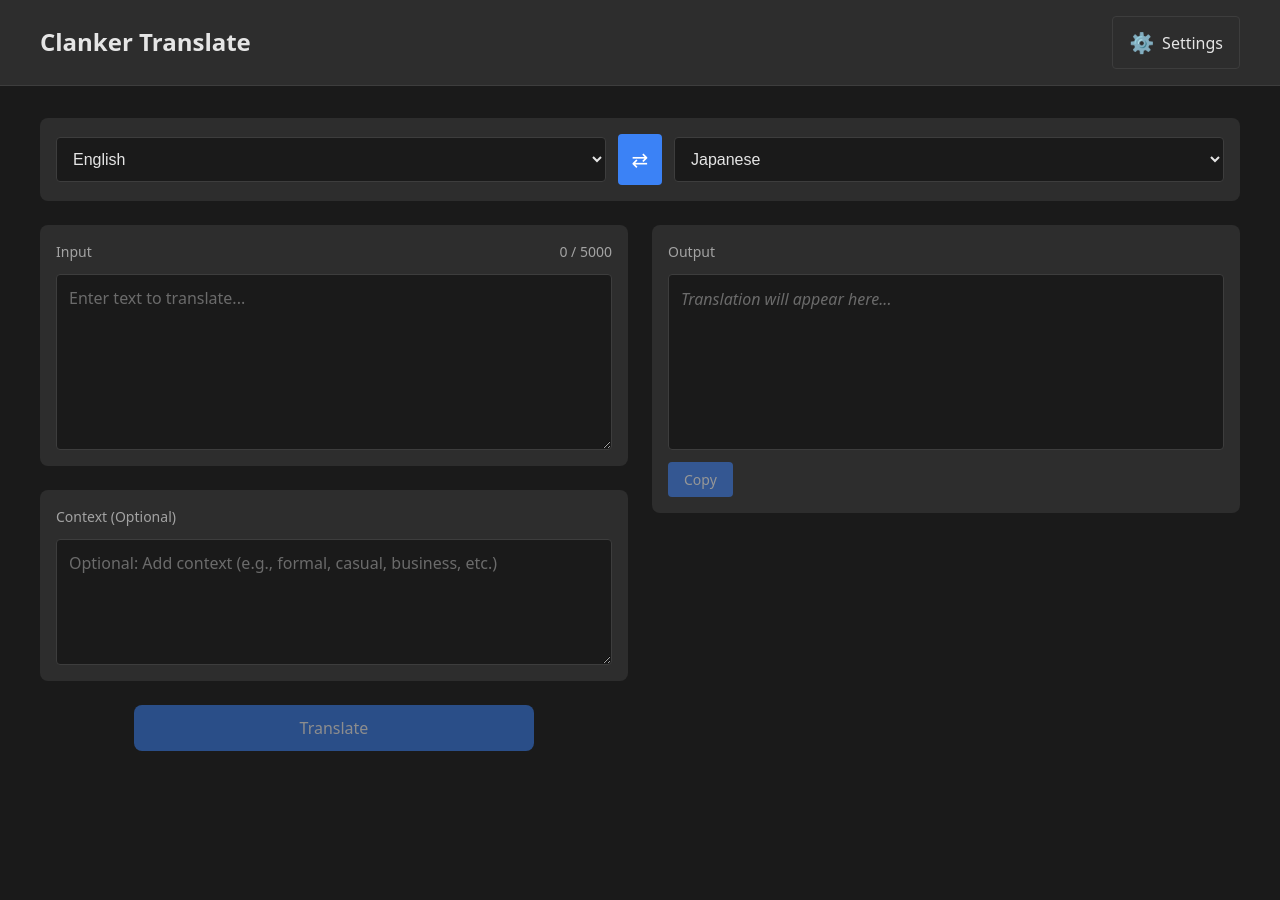
Scenario: TranslationInterface › Translation Flow › should display error state when translation fails
This screenshot has width=1280, height=900.
# Enter text
In the text box named "input text": (334, 362) [56, 274, 612, 450], type "Hello world"
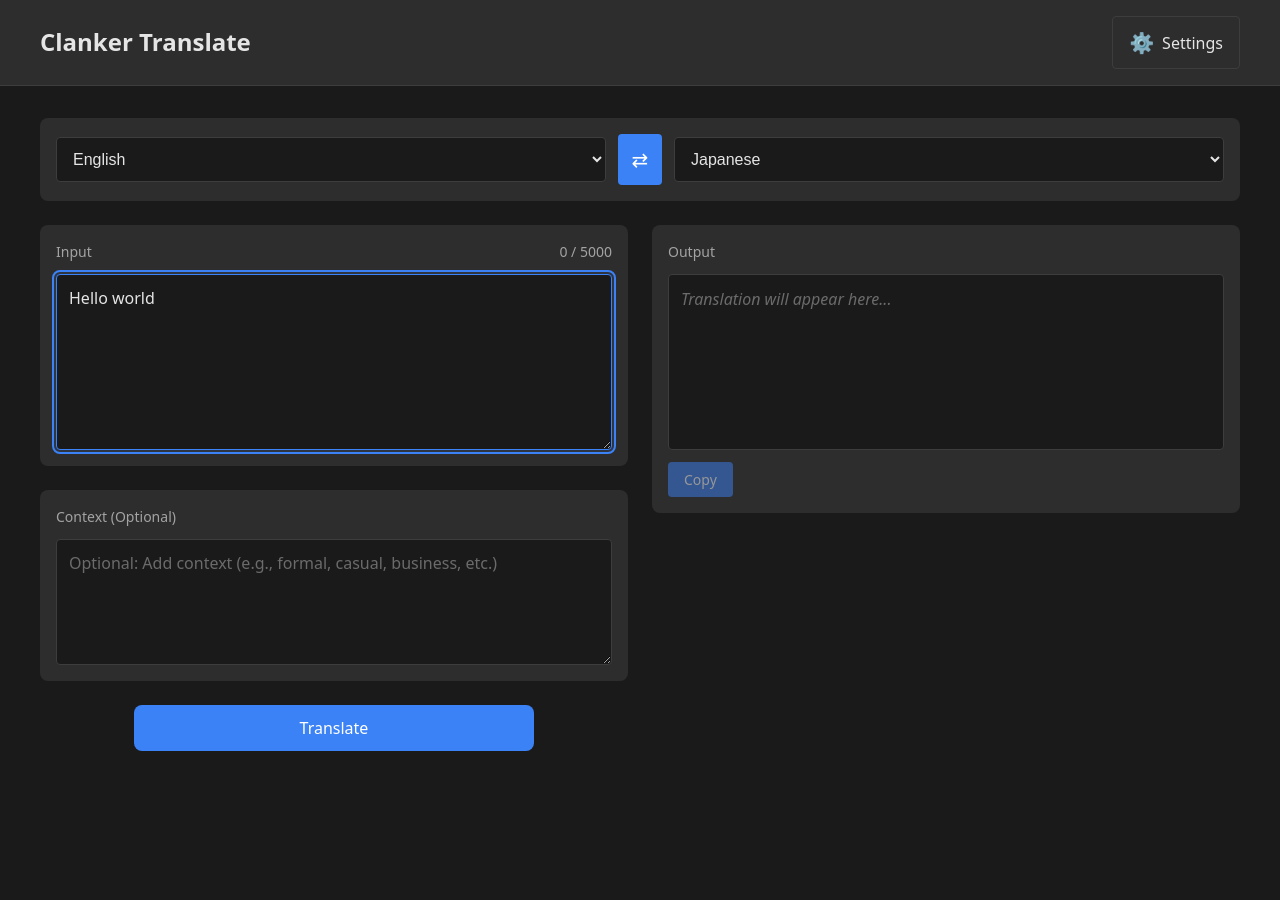
# Click translate
Click the button with aria-label "translate text": (334, 728) [134, 705, 534, 751]
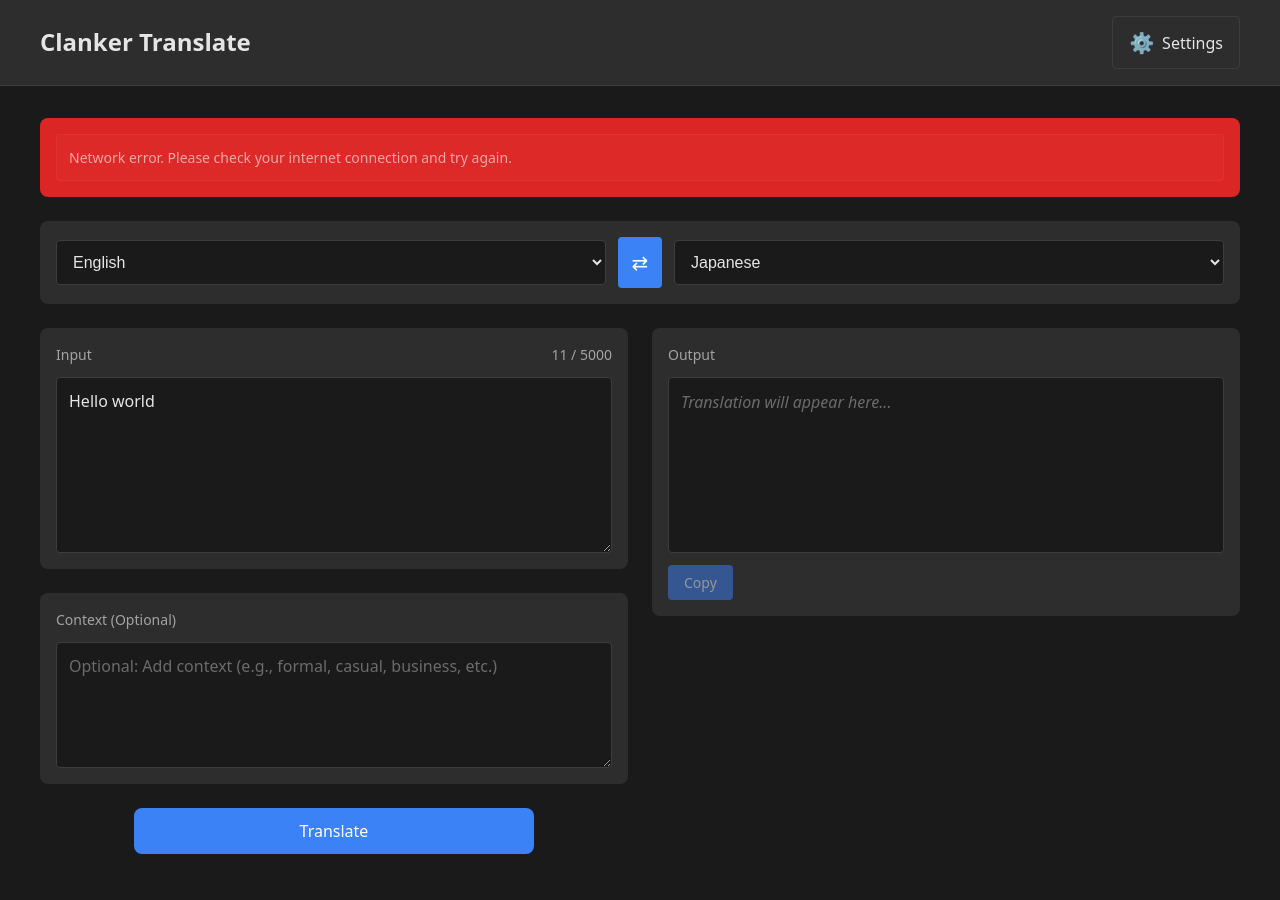
Expected: the message "Network error. Please check your internet connection and try again." is shown, [40, 118, 1240, 197]
Expected: the text "Network error" is shown, [69, 148, 512, 167]
